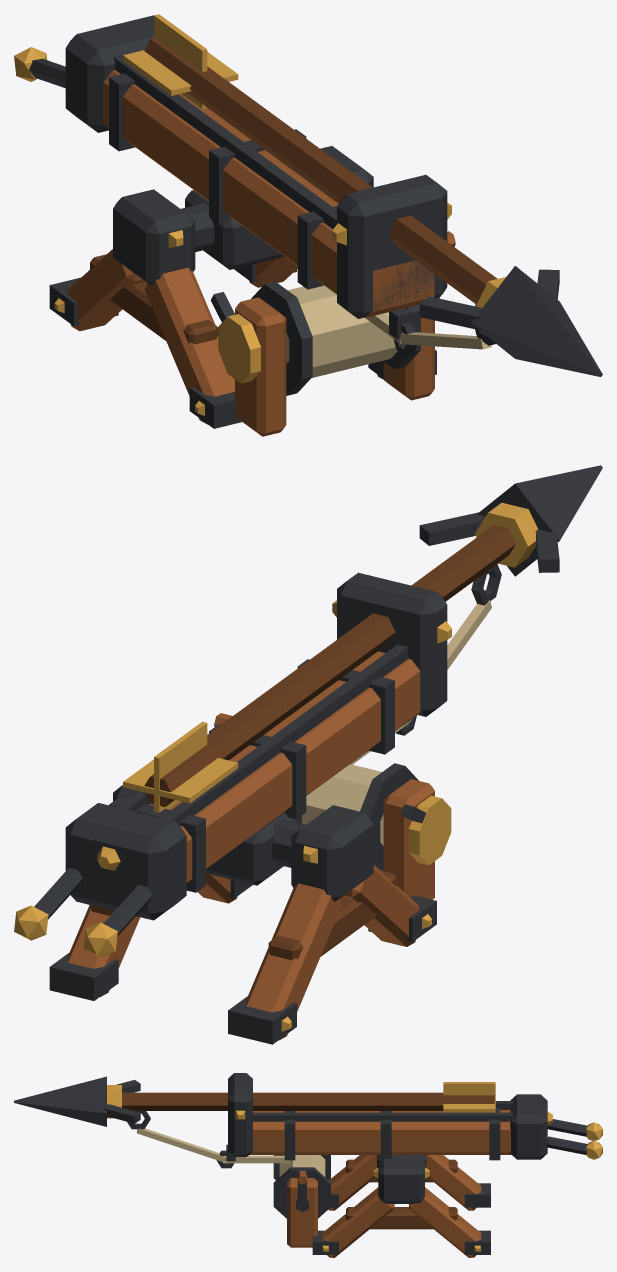
Rendered from HarpoonDefault.obj.
The picture shows the model from 3 angles, top to bottom: view 1: azimuth 30°, elevation 25°; view 2: azimuth 150°, elevation 25°; view 3: azimuth 270°, elevation 25°; orthographic projection. The views are drawn at different scales.
Parts seen in each view (by area): view 1: HarpoonDefault; view 2: HarpoonDefault; view 3: HarpoonDefault.
Part boxes in pixels (bbox=[...]): HarpoonDefault: bbox=[14, 14, 602, 436]; HarpoonDefault: bbox=[14, 465, 602, 1044]; HarpoonDefault: bbox=[14, 1073, 602, 1257].
Bounding box in the file's own units: 0.567 × 0.6597 × 2.28.
